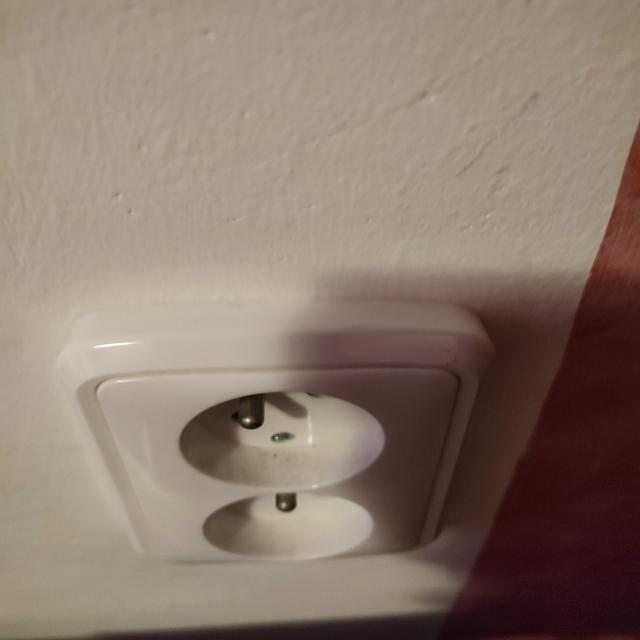house plug: (165, 381, 400, 491), (191, 491, 396, 562)
